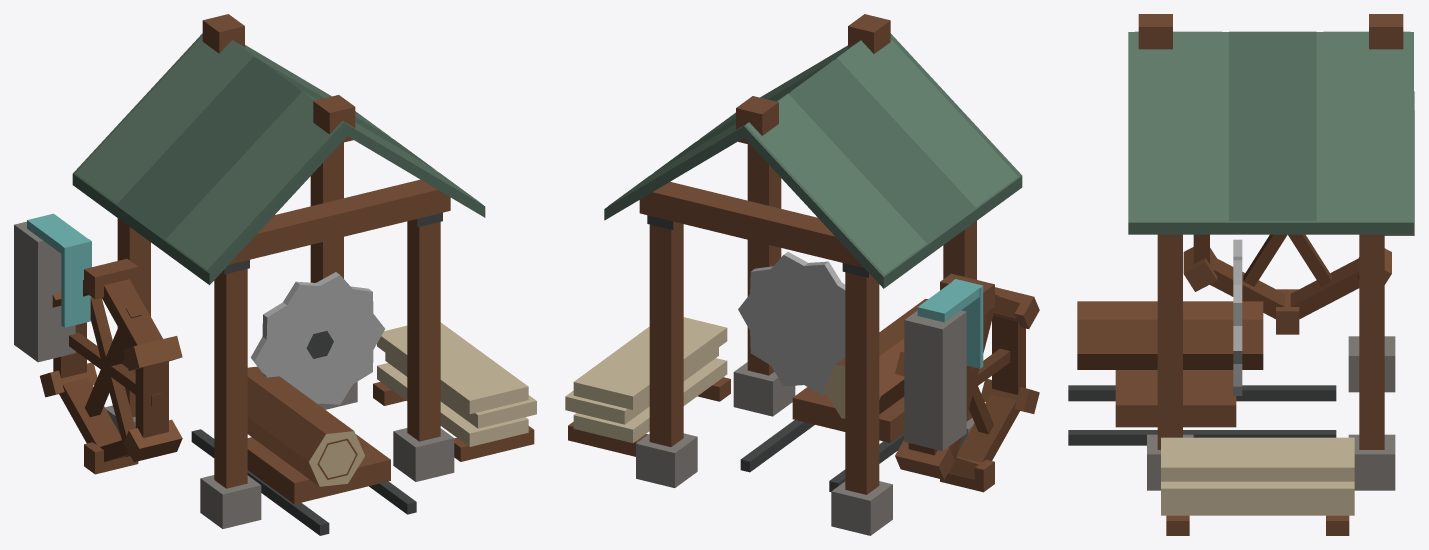
File: sawmill.glb
The picture shows the model from 3 angles, left to right: view 1: azimuth 30°, elevation 25°; view 2: azimuth 150°, elevation 25°; view 3: azimuth 270°, elevation 25°; orthographic projection. The views are drawn at different scales.
Parts seen in each view (by area): view 1: sawmill; view 2: sawmill; view 3: sawmill.
Part boxes in pixels (x1,y1,x2,y2): sawmill: (14, 14, 536, 535); sawmill: (565, 14, 1039, 535); sawmill: (1068, 14, 1414, 535).
Size of the model in its own units: 0.4365 by 0.4095 by 0.3125.
